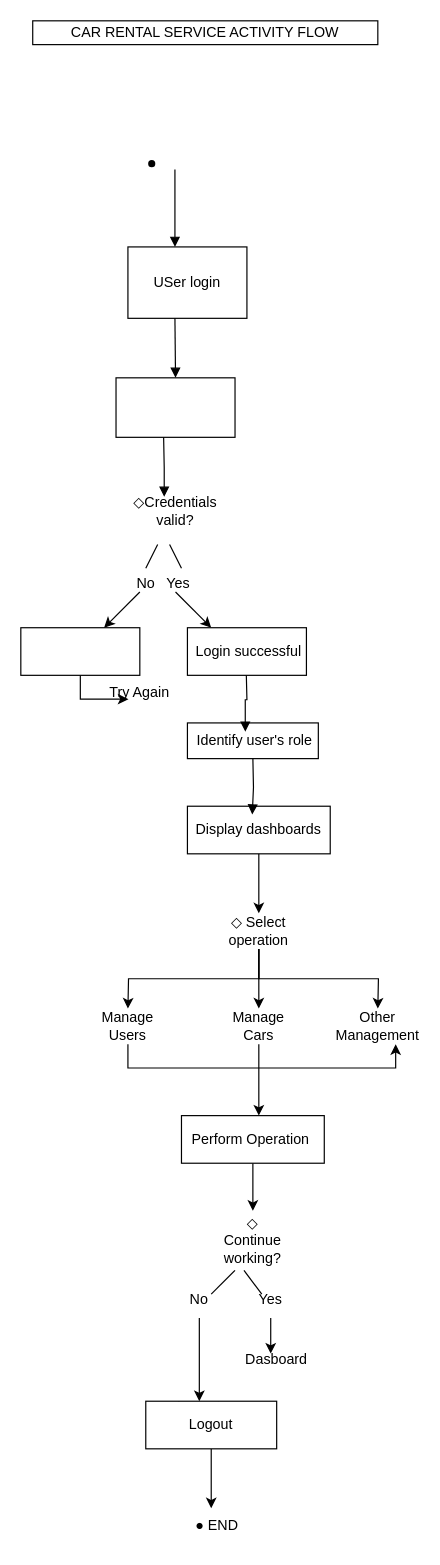
Some shapes in this 440 by 1565 pixel diagram are drawn without their labels. Each missing label, with the centre of its shape:
"Open the system" belongs at (175,407).
"Show error" belongs at (80,651).
"START" belongs at (151,163).
